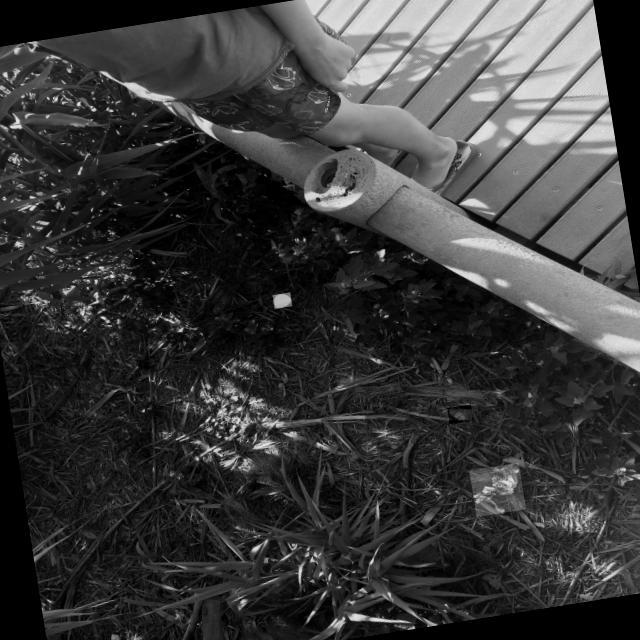Other plastic: (474, 466, 519, 513)
Plastic film: (448, 409, 472, 421)
Unlabeled litter: (273, 294, 291, 309)
